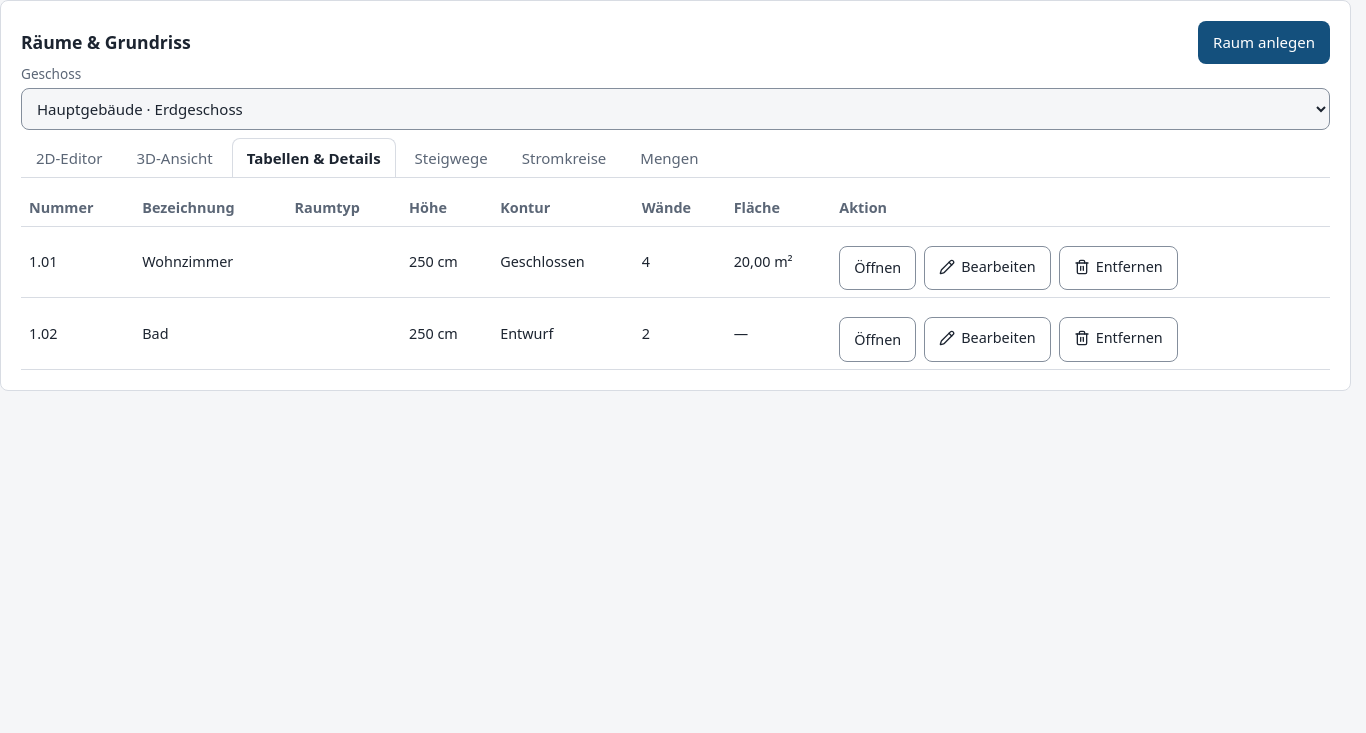
Test: Raum öffnen › lehnt eine Wand mit identischem Start- und Endpunkt sofort ab
Expected: the text "Wohnzimmer" is shown, left=134, top=226, right=287, bottom=298
Step 1. Click the button with aria-label "Raum Wohnzimmer öffnen" → coordinates (878, 268), box left=839, top=246, right=916, bottom=290
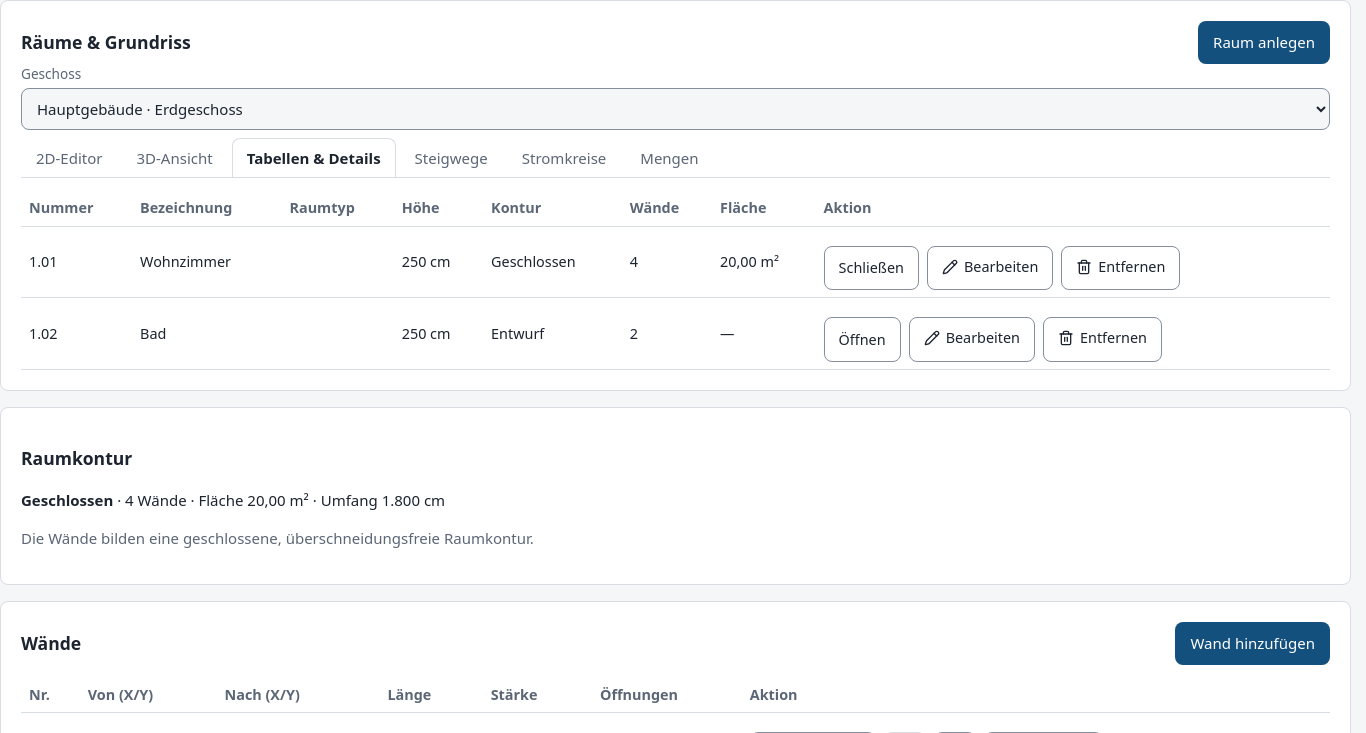
Now the heading "Raumkontur" is shown, box left=21, top=446, right=132, bottom=470
Step 2. Click the button "Wand hinzufügen" → coordinates (1253, 643), box left=1175, top=622, right=1330, bottom=665
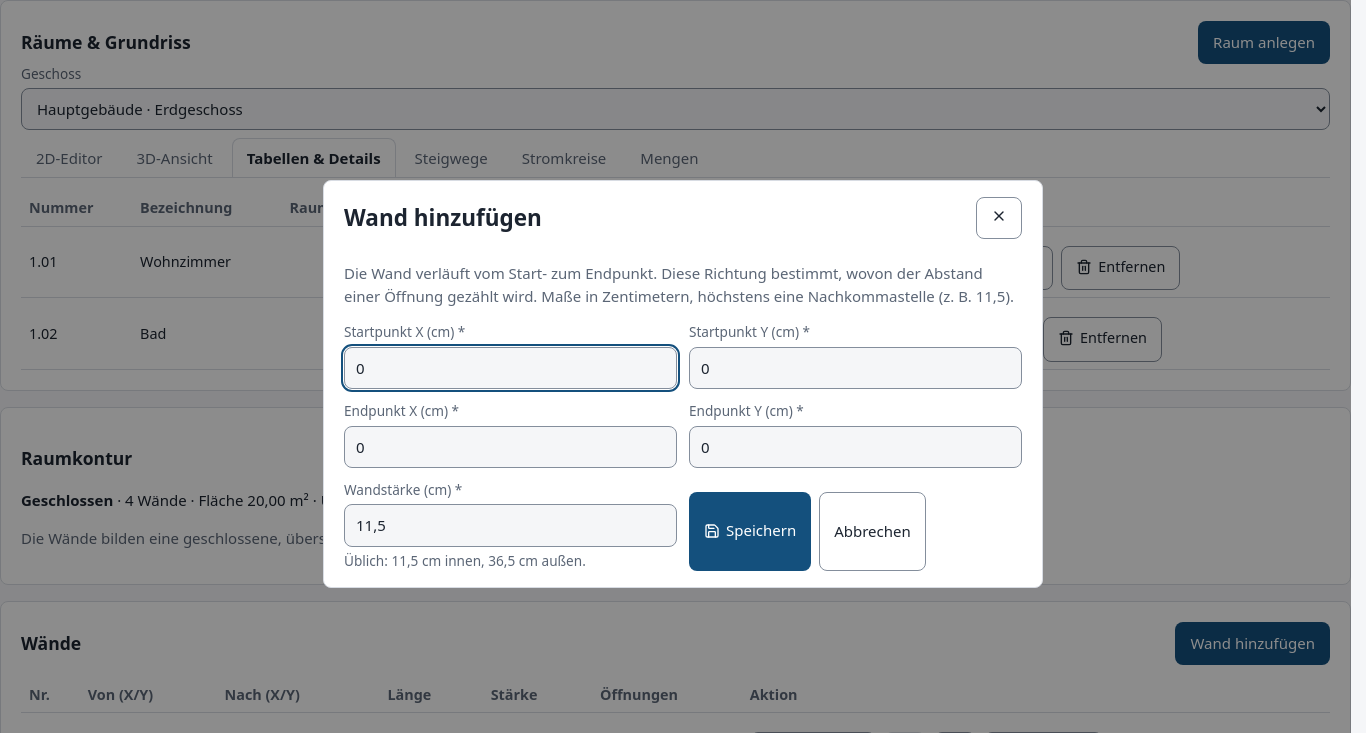
Step 3. Click the button "Speichern" → coordinates (750, 532), box left=689, top=492, right=811, bottom=571
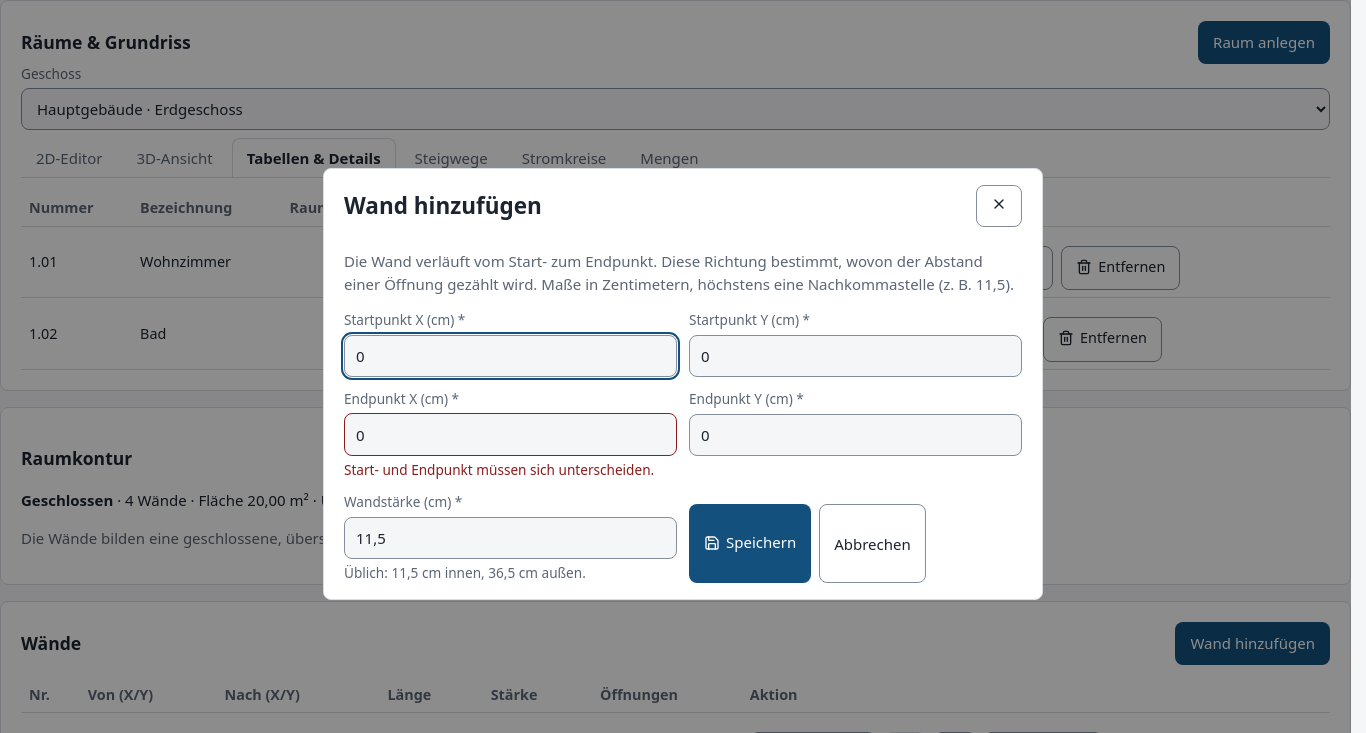
Now the text "Start- und Endpunkt müssen sich unterscheiden." is shown, box left=344, top=460, right=677, bottom=480
